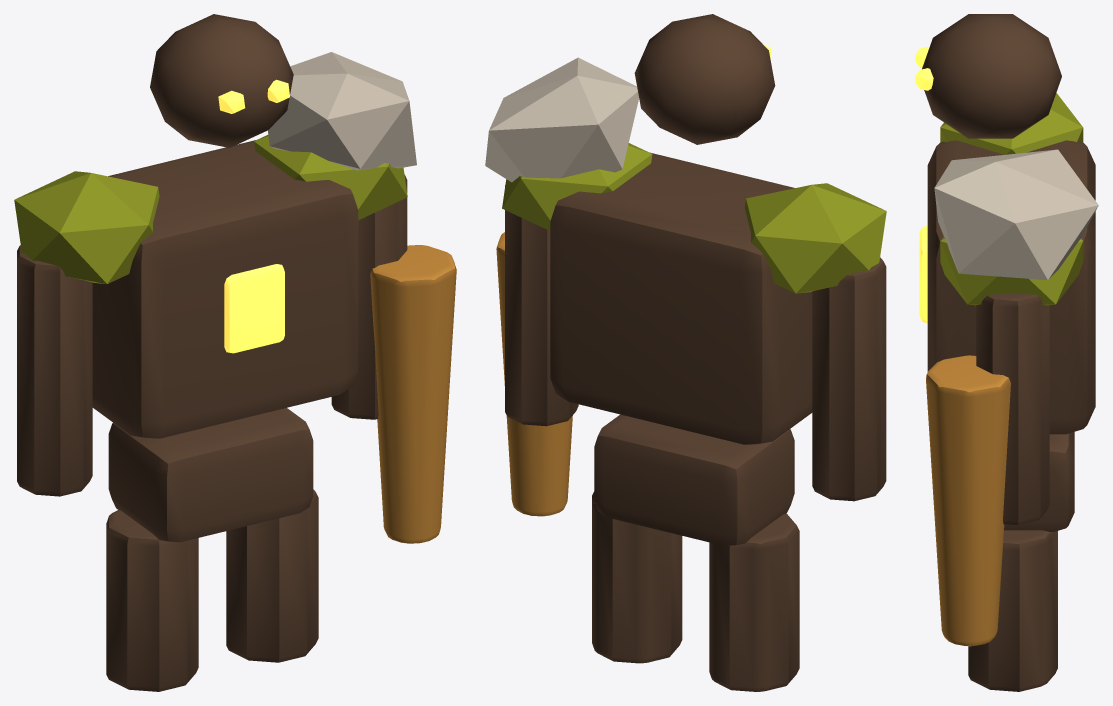
File: enemy_watchpost_guardian.glb
The picture shows the model from 3 angles, left to right: view 1: azimuth 30°, elevation 25°; view 2: azimuth 150°, elevation 25°; view 3: azimuth 270°, elevation 25°; orthographic projection. The views are drawn at different scales.
Parts seen in each view (by area): view 1: Torso, Hips, Club, ArmL, LegL, Head, LegR, Pauldron, MossPadL, ArmR, Core, MossPadR; view 2: Torso, Hips, ArmL, LegL, Pauldron, Head, LegR, MossPadL, ArmR, Club, MossPadR; view 3: Club, Pauldron, Torso, Head, ArmR, LegR, MossPadR, MossPadL, Hips, Core, EyeR.
Boxes of the visible parts, bbox=[...] form: Torso: bbox=[92, 140, 358, 438]; Hips: bbox=[108, 408, 313, 542]; Club: bbox=[370, 245, 456, 543]; ArmL: bbox=[17, 245, 92, 496]; LegL: bbox=[106, 510, 198, 691]; Head: bbox=[150, 14, 293, 147]; LegR: bbox=[226, 489, 318, 662]; Pauldron: bbox=[268, 52, 416, 170]; MossPadL: bbox=[14, 171, 159, 284]; ArmR: bbox=[331, 174, 407, 419]; Core: bbox=[224, 264, 284, 353]; MossPadR: bbox=[254, 135, 407, 220]; Torso: bbox=[550, 152, 812, 444]; Hips: bbox=[594, 414, 794, 545]; ArmL: bbox=[812, 257, 886, 501]; LegL: bbox=[709, 513, 799, 691]; Pauldron: bbox=[485, 57, 638, 182]; Head: bbox=[634, 14, 775, 144]; LegR: bbox=[592, 491, 682, 663]; MossPadL: bbox=[744, 183, 886, 293]; ArmR: bbox=[505, 185, 578, 426]; Club: bbox=[496, 232, 572, 516]; MossPadR: bbox=[502, 143, 652, 230]; Club: bbox=[926, 355, 1010, 646]; Pauldron: bbox=[934, 149, 1098, 280]; Torso: bbox=[927, 140, 1095, 434]; Head: bbox=[922, 14, 1061, 138]; ArmR: bbox=[976, 293, 1049, 525]; LegR: bbox=[968, 530, 1057, 691]; MossPadR: bbox=[940, 236, 1083, 305]; MossPadL: bbox=[940, 93, 1083, 154]; Hips: bbox=[1004, 432, 1074, 531]; Core: bbox=[919, 225, 927, 323]; EyeR: bbox=[915, 68, 933, 90].
Size of the model in its own units: 1.09 by 1.65 by 0.437.
